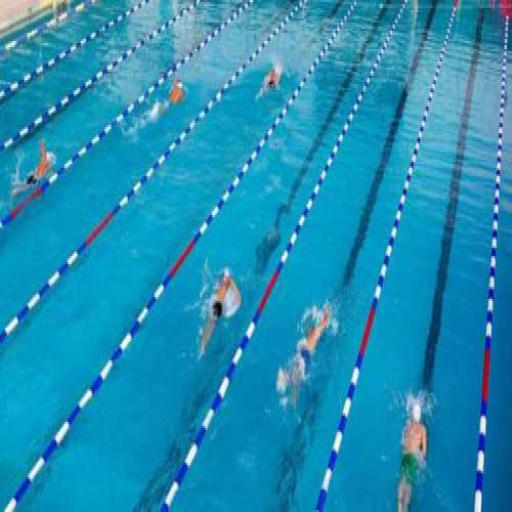swimming: (274, 299, 333, 416), (393, 387, 432, 510), (194, 264, 242, 363), (251, 196, 292, 282), (10, 135, 56, 201), (258, 58, 284, 102)
